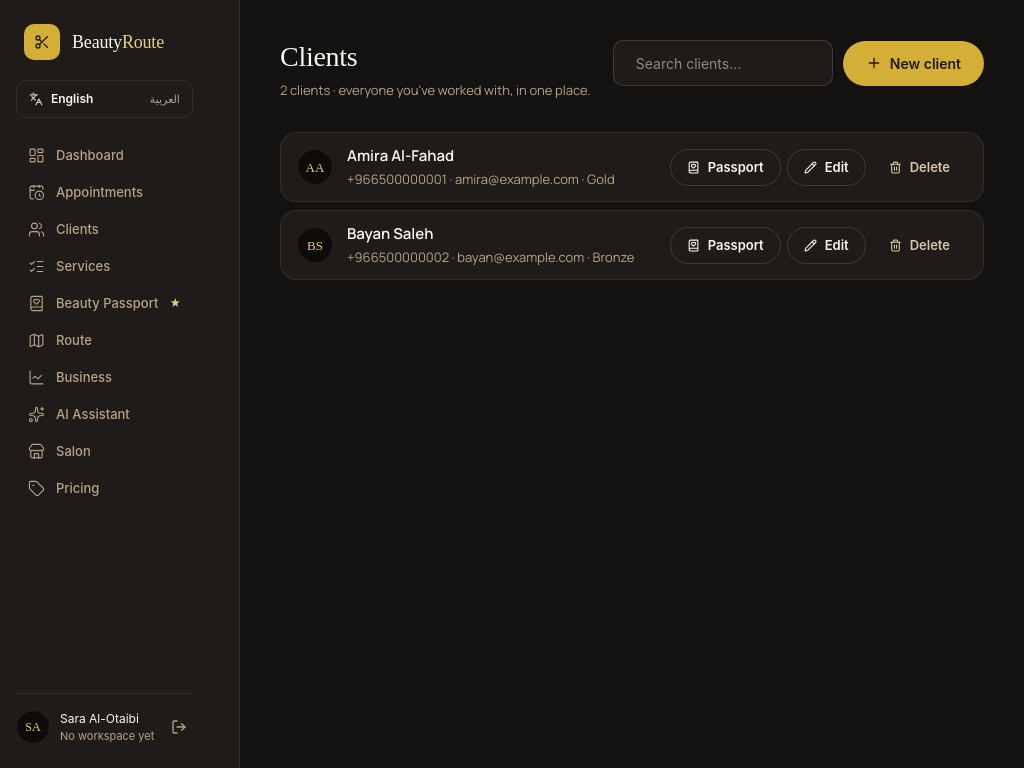
Test case: Clients page › shows a specific message when delete is blocked by a foreign-key violation (existing booking history)
The image size is (1024, 768).
Expected: the text "Amira Al-Fahad" is shown, [347, 145, 454, 166]
Click the button "Delete" in the row of "Gold": {"x": 919, "y": 167} [872, 149, 967, 186]
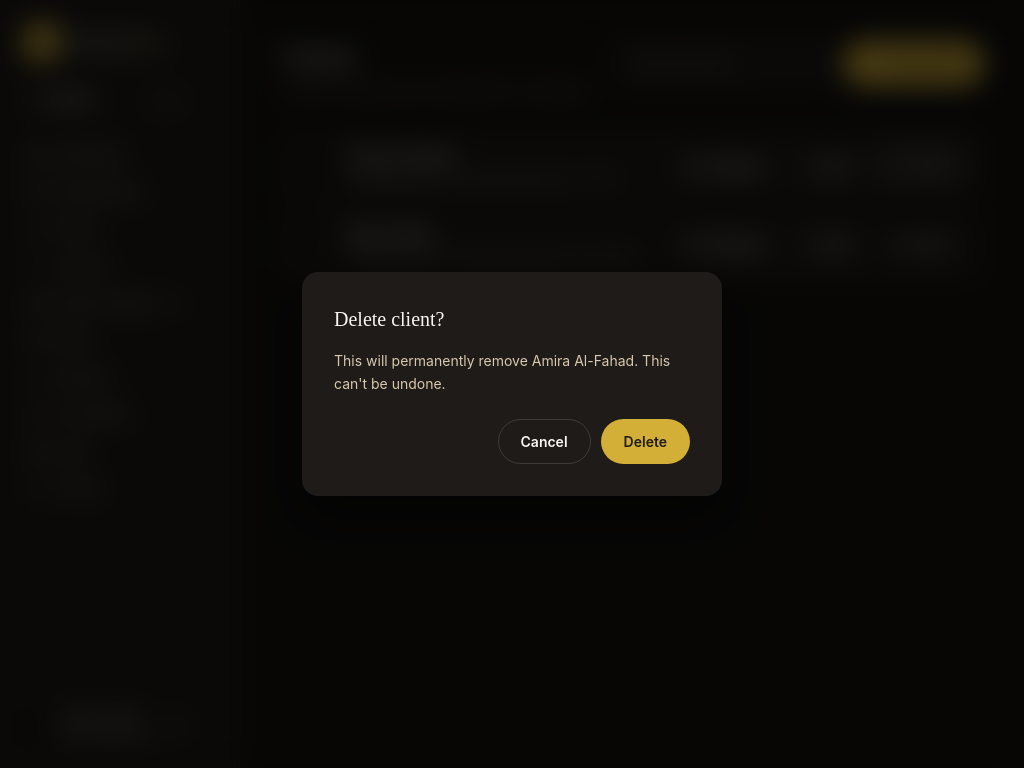
Click the button "Delete": {"x": 645, "y": 441} [601, 419, 690, 464]
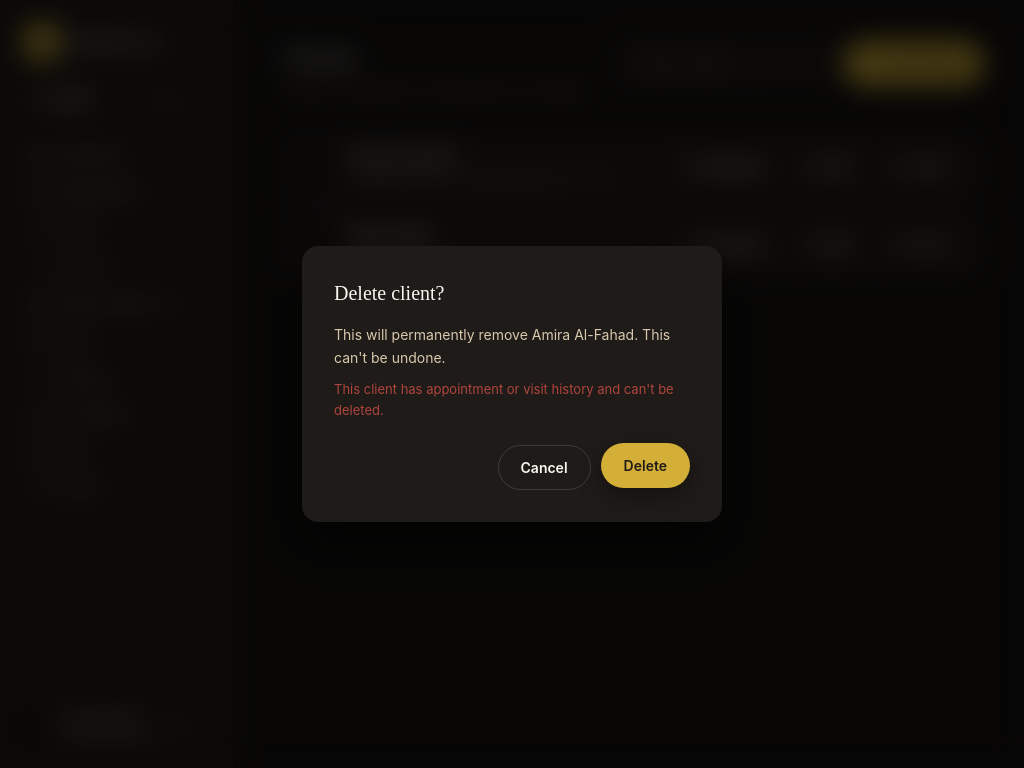
Expected: the text "This client has appointment or visit history and can't be deleted." is shown, [334, 379, 690, 421]
